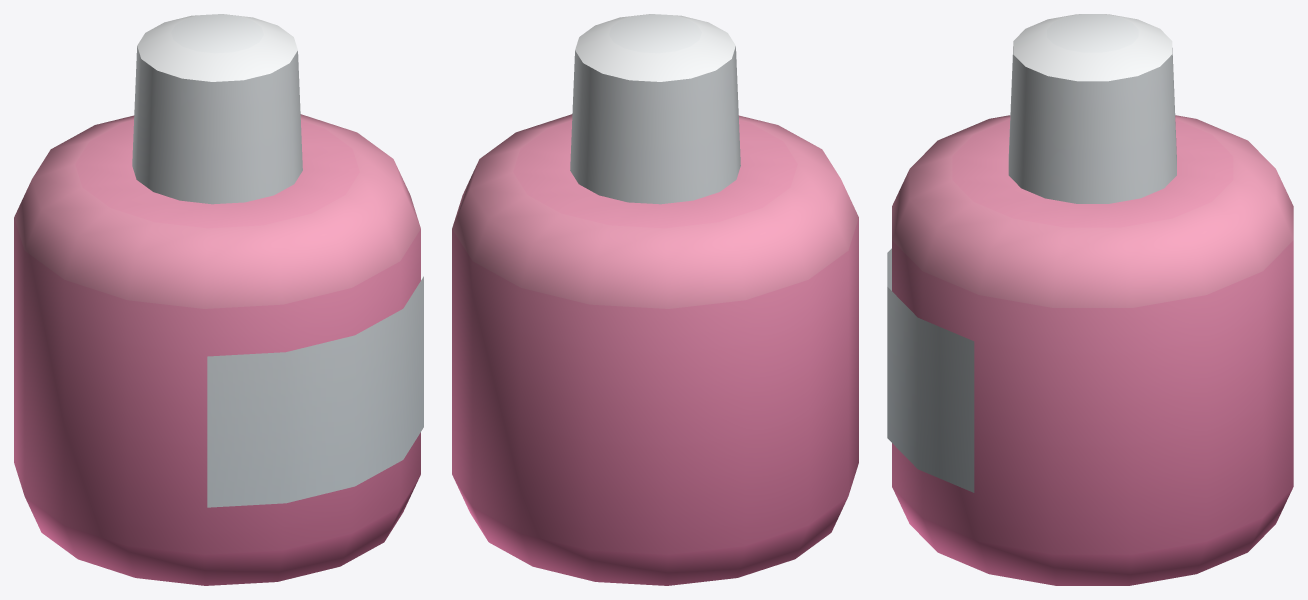
File: container_bathroom_B_pink.fbx
3 views of the same model, side by side, from view 1: azimuth 30°, elevation 25°; view 2: azimuth 150°, elevation 25°; view 3: azimuth 270°, elevation 25° (orthographic).
Visible parts, largest first — view 1: container_bathroom_B_pink; view 2: container_bathroom_B_pink; view 3: container_bathroom_B_pink.
Part boxes in pixels (x1,y1,x2,y2): container_bathroom_B_pink: (14, 14, 423, 585); container_bathroom_B_pink: (452, 14, 858, 585); container_bathroom_B_pink: (887, 14, 1293, 585).
Size of the model in its own units: 0.312 by 0.422 by 0.3162.
